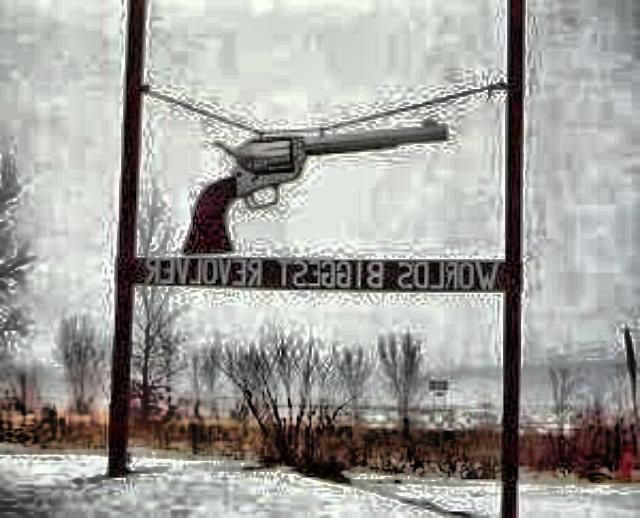pistol: (177, 104, 445, 250)
